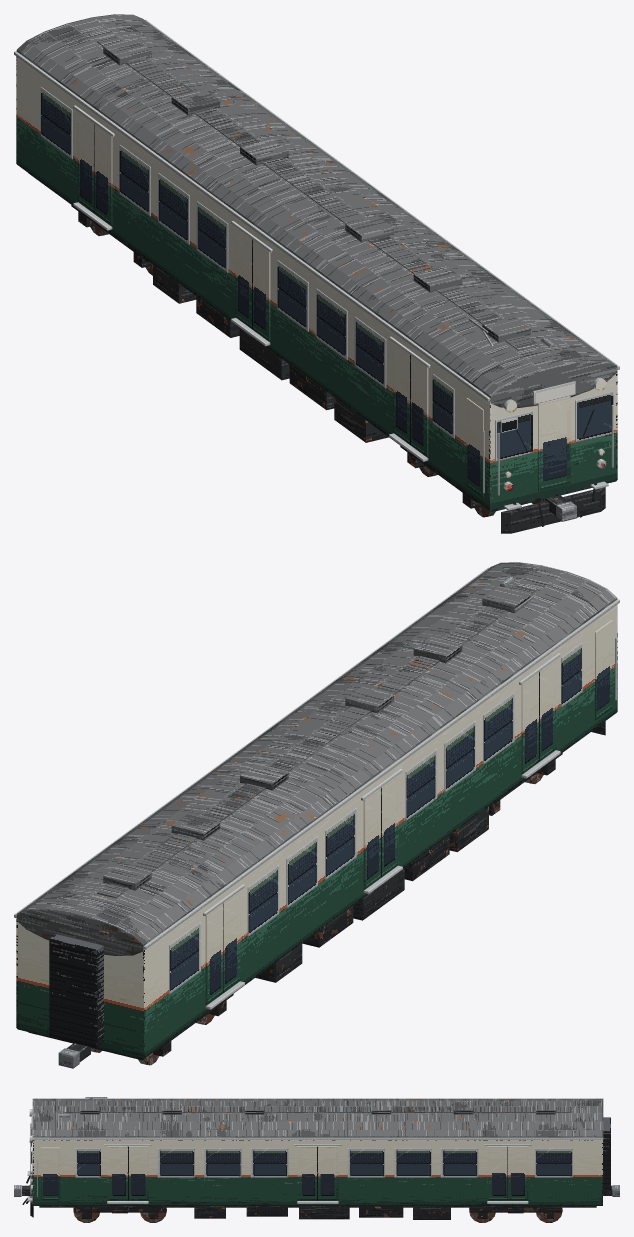
The model's file is train_cab.glb.
3 views of the same model, one above another, from view 1: azimuth 30°, elevation 25°; view 2: azimuth 150°, elevation 25°; view 3: azimuth 270°, elevation 25° (orthographic). The views are drawn at different scales.
Visible parts, largest first — view 1: train_cab; view 2: train_cab; view 3: train_cab.
Part boxes in pixels (<box>): train_cab: <box>14,14,619,533</box>; train_cab: <box>14,562,619,1068</box>; train_cab: <box>14,1097,619,1222</box>.
Size of the model in its own units: 3.02 by 3.85 by 19.14.
Materials: 1 (1 with a texture image).
